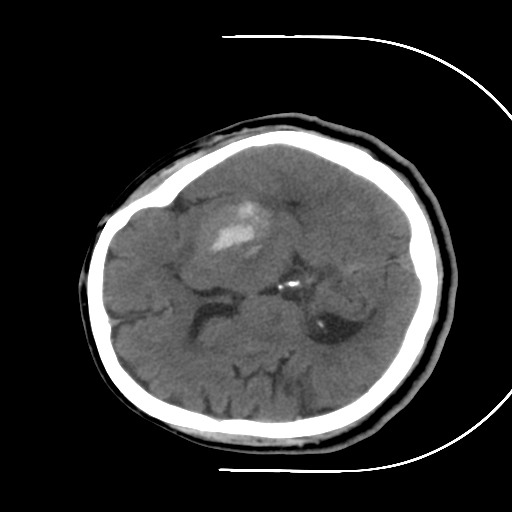a: (183, 188, 284, 274)
